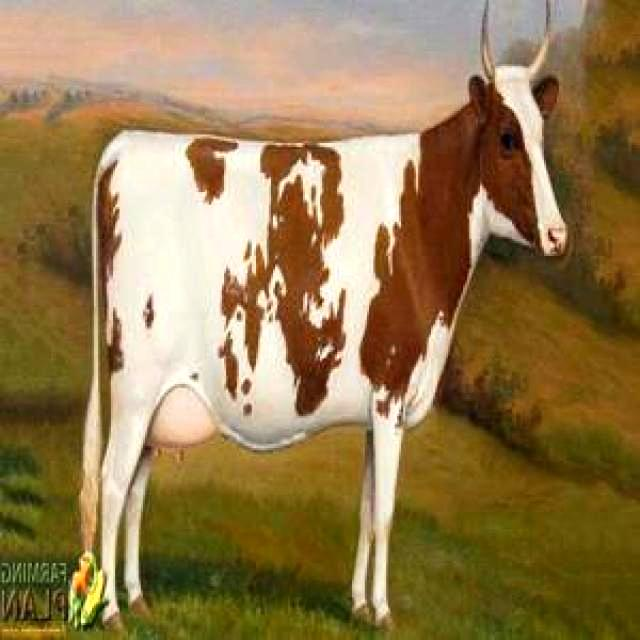COW: (81, 28, 566, 622)
